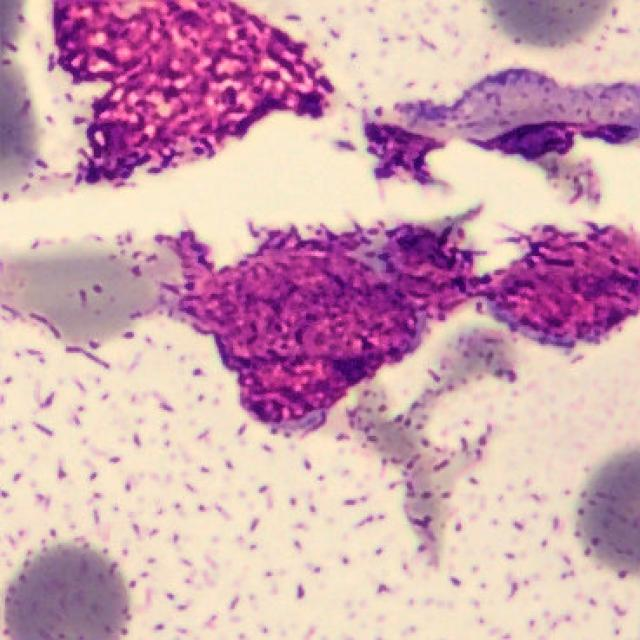Restos celulares: (169, 225, 640, 427), (52, 0, 336, 187)
